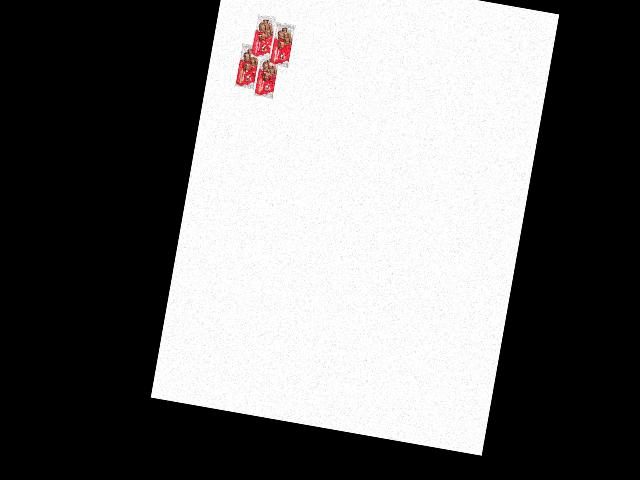chocolate: (231, 40, 265, 93)
